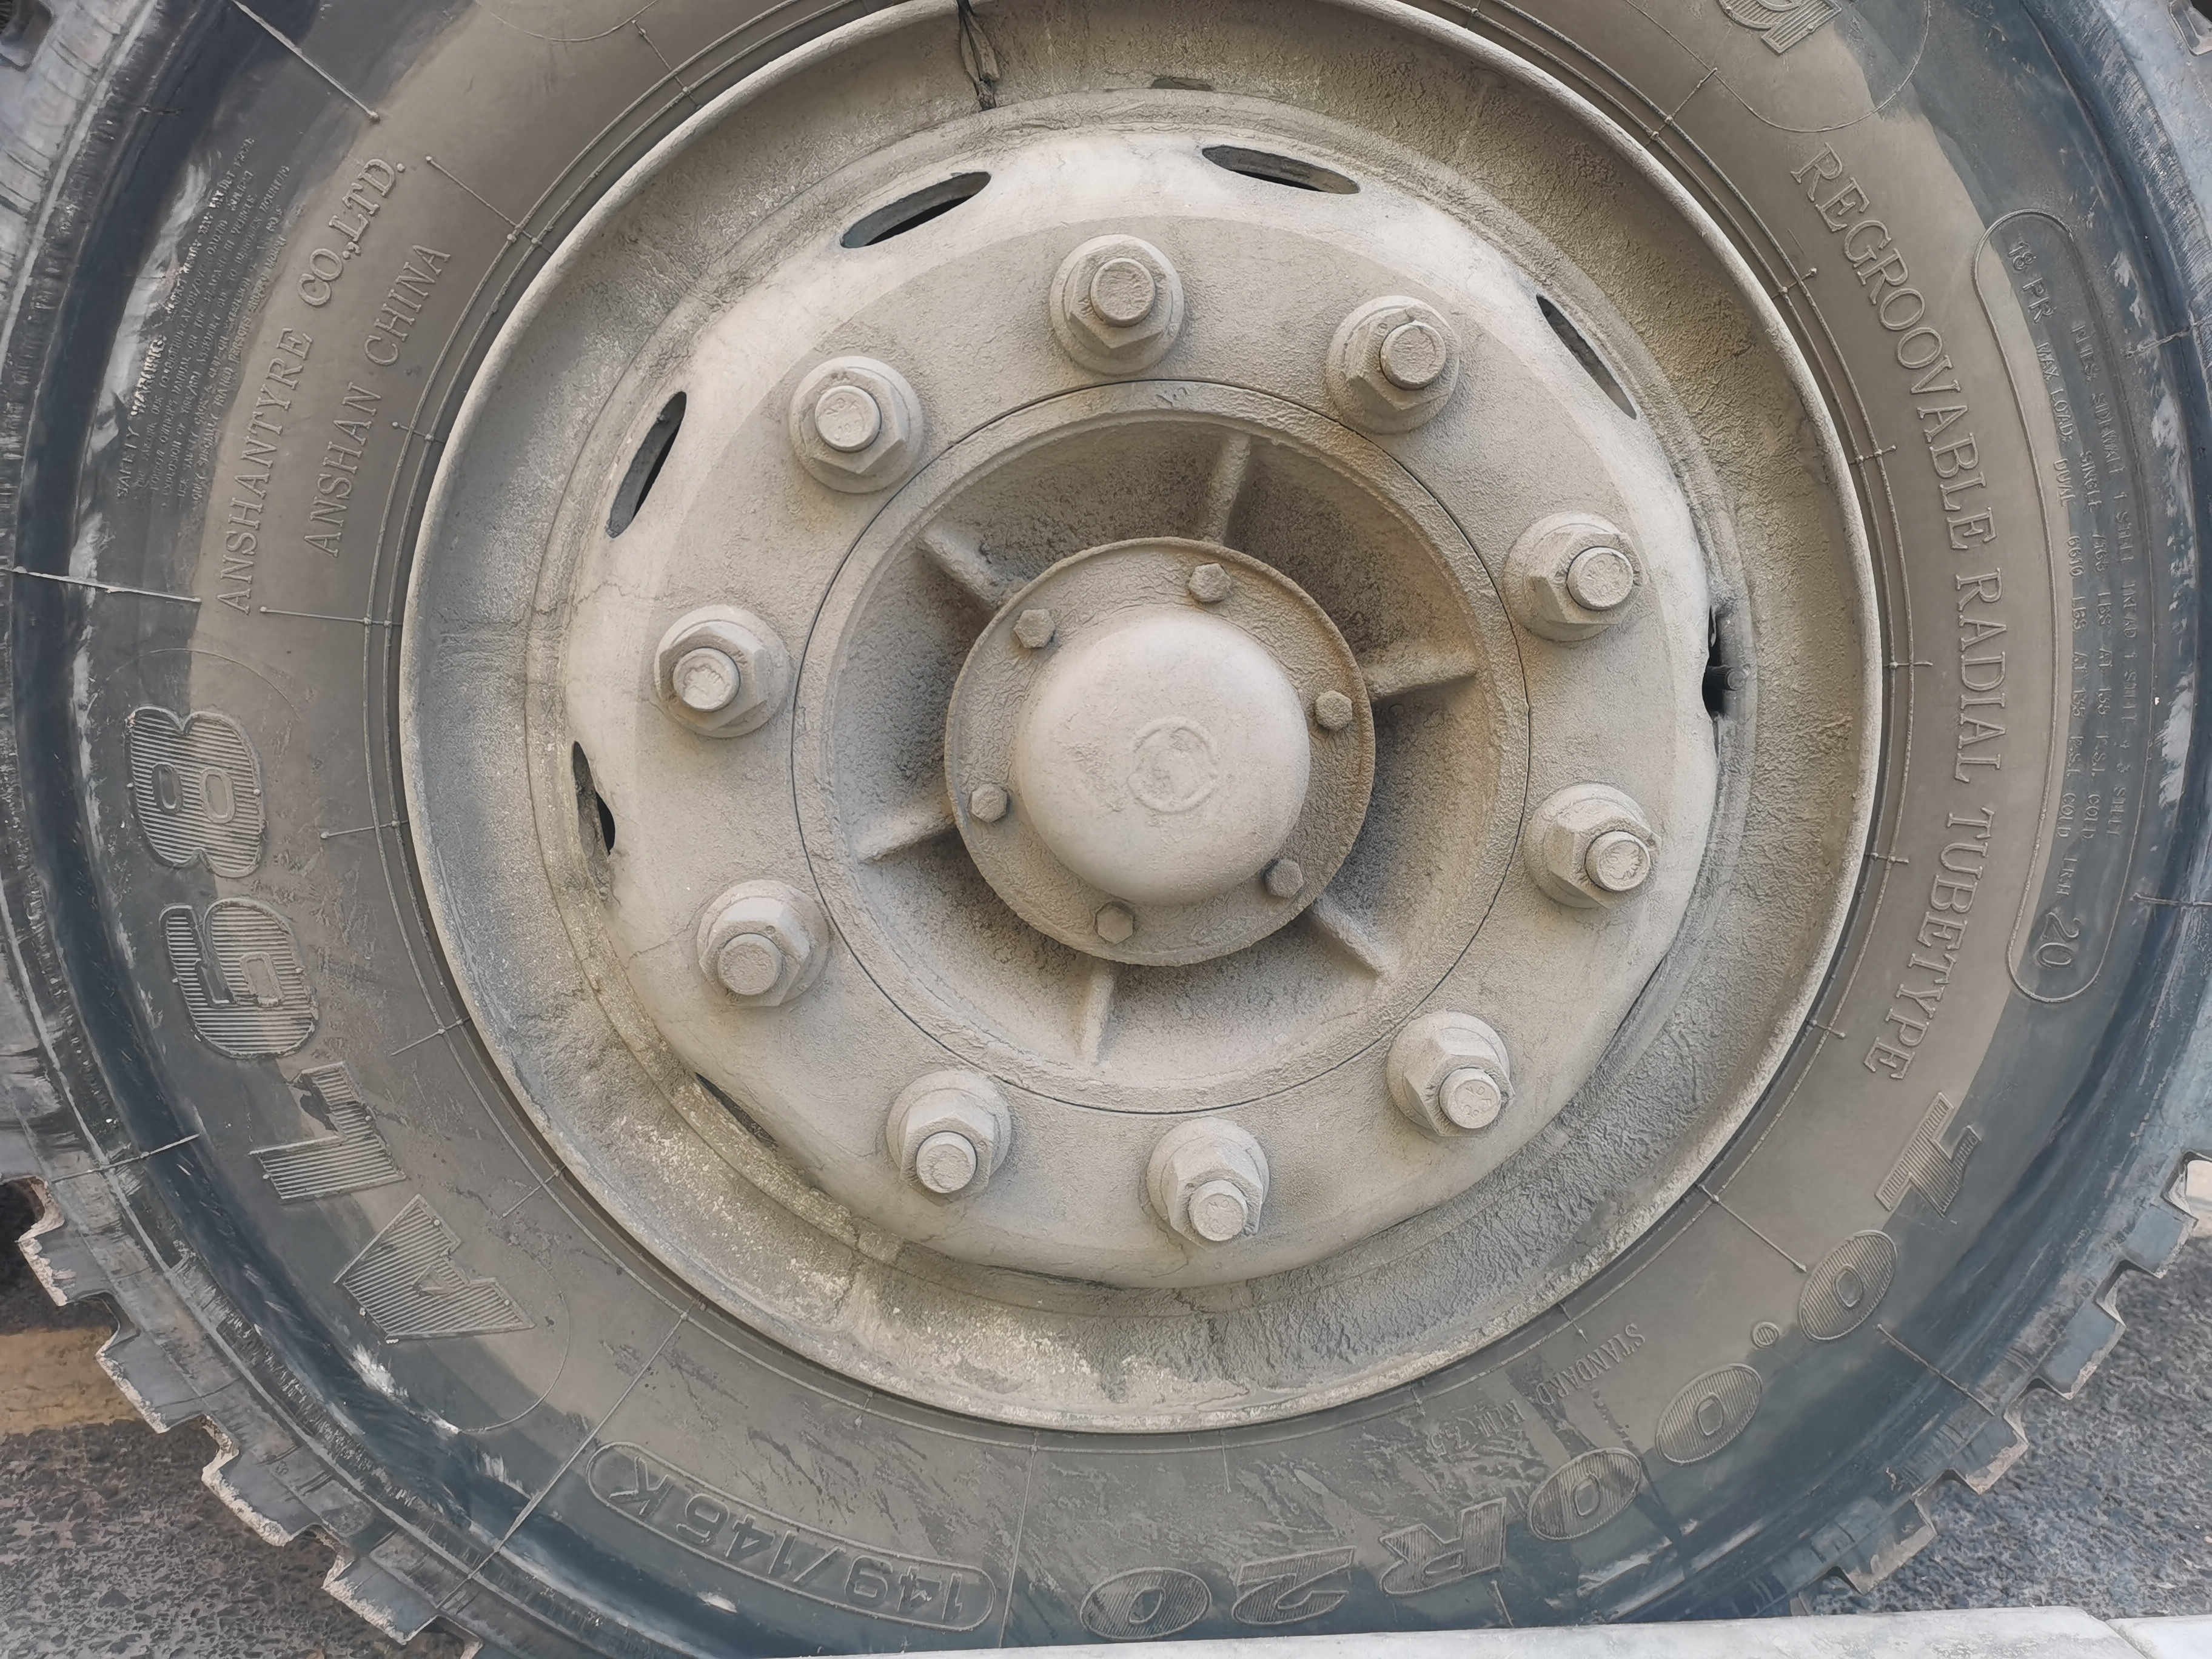bolt_a: (1184, 554, 1235, 610), (1010, 605, 1059, 653), (1308, 687, 1355, 735), (1259, 856, 1308, 903), (1090, 899, 1137, 948), (967, 779, 1014, 828)
bolt_b: (1341, 295, 1465, 425), (1541, 793, 1665, 917), (690, 894, 817, 1014), (648, 619, 775, 737), (1059, 235, 1176, 362), (1521, 521, 1653, 631), (791, 364, 911, 481), (1399, 1026, 1519, 1143), (1158, 1134, 1266, 1258), (895, 1091, 1001, 1211)
